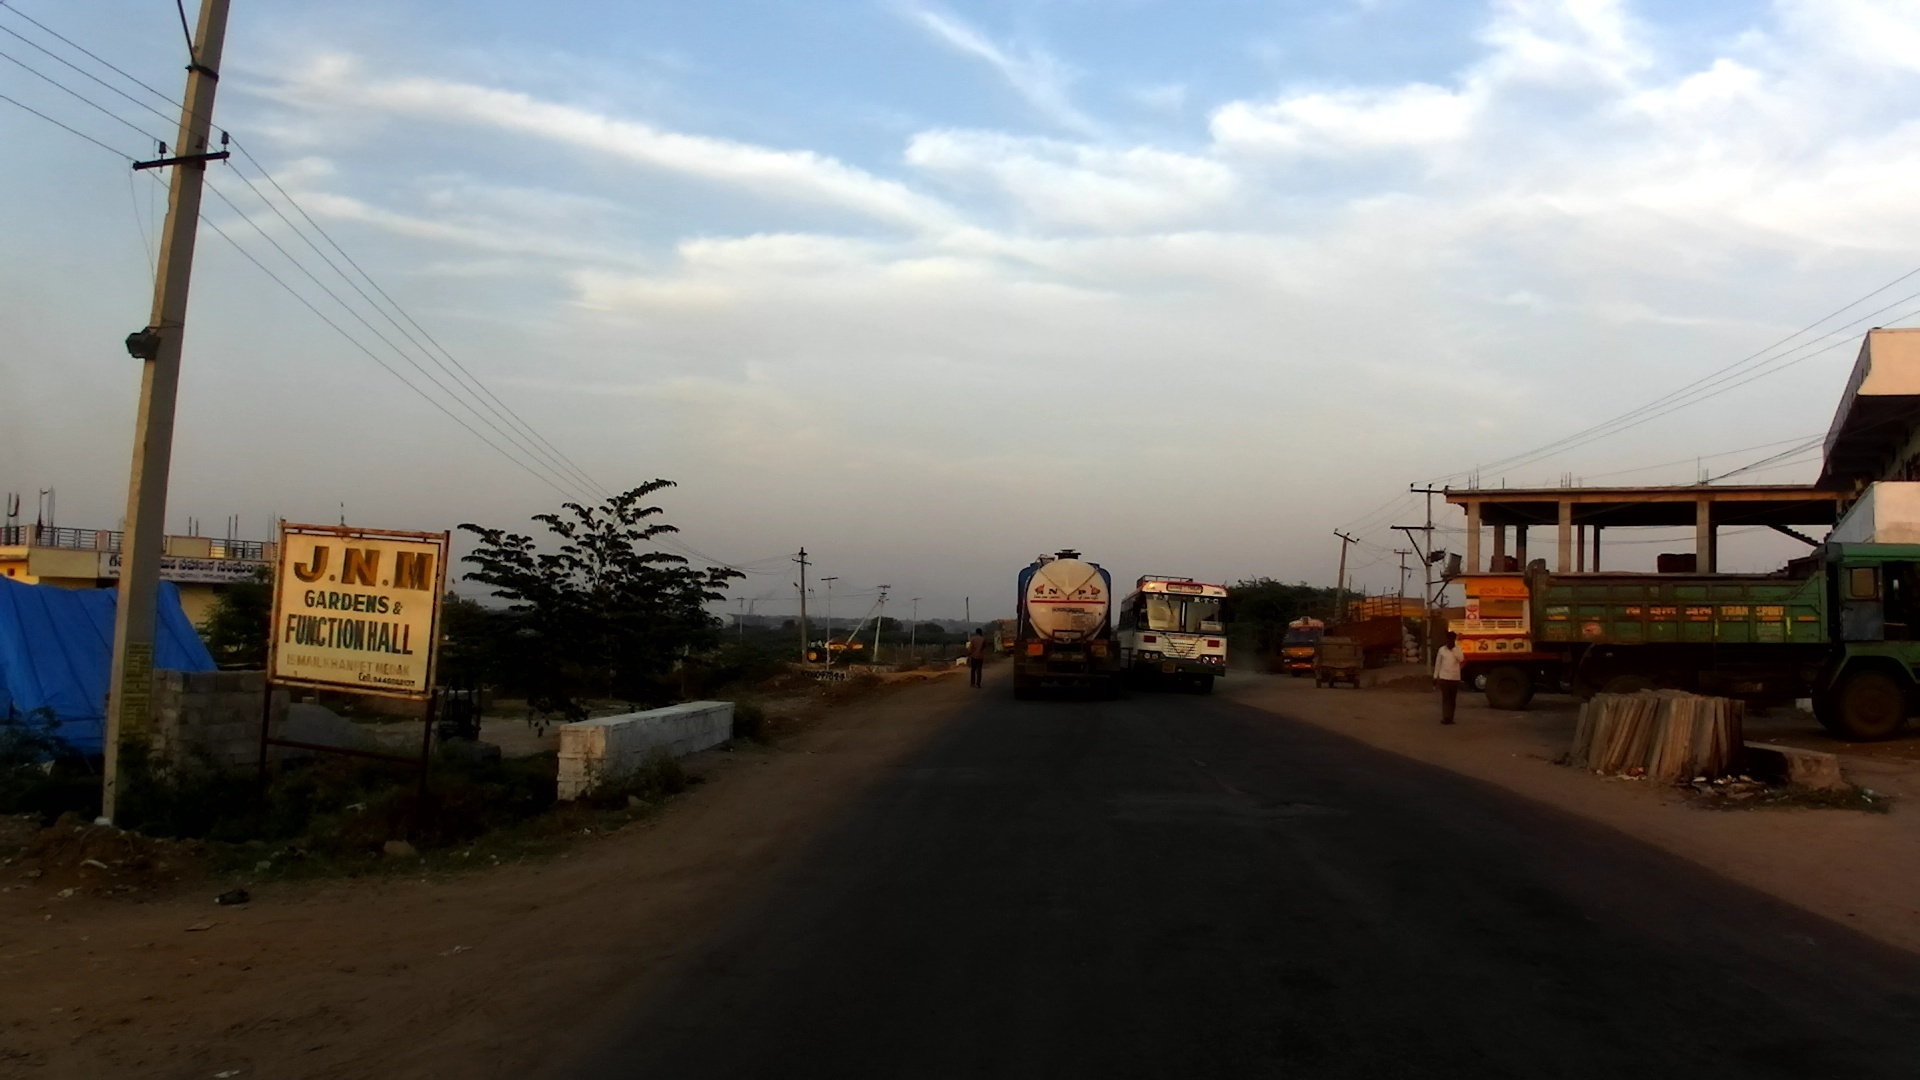autorickshaw: (1314, 635, 1365, 697)
person: (1433, 629, 1470, 733), (965, 623, 989, 686)
truck: (1460, 554, 1920, 739), (1012, 547, 1122, 704), (1117, 571, 1230, 696), (1340, 594, 1432, 670), (1279, 615, 1332, 680), (996, 617, 1026, 662)
vehicle fallback: (803, 638, 865, 669)
